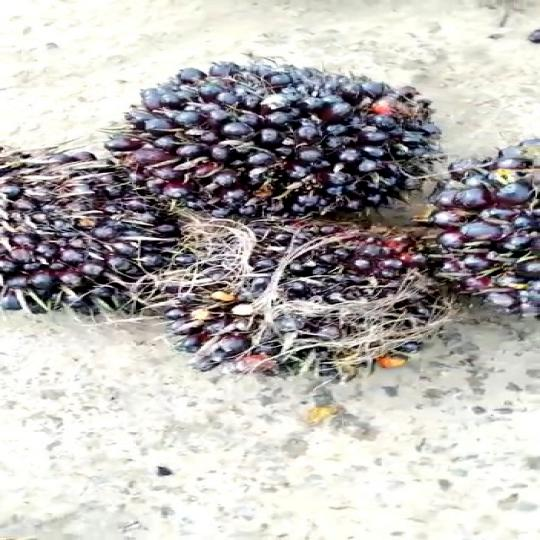mentah: (150, 204, 477, 400), (0, 130, 250, 324), (116, 50, 411, 214)
